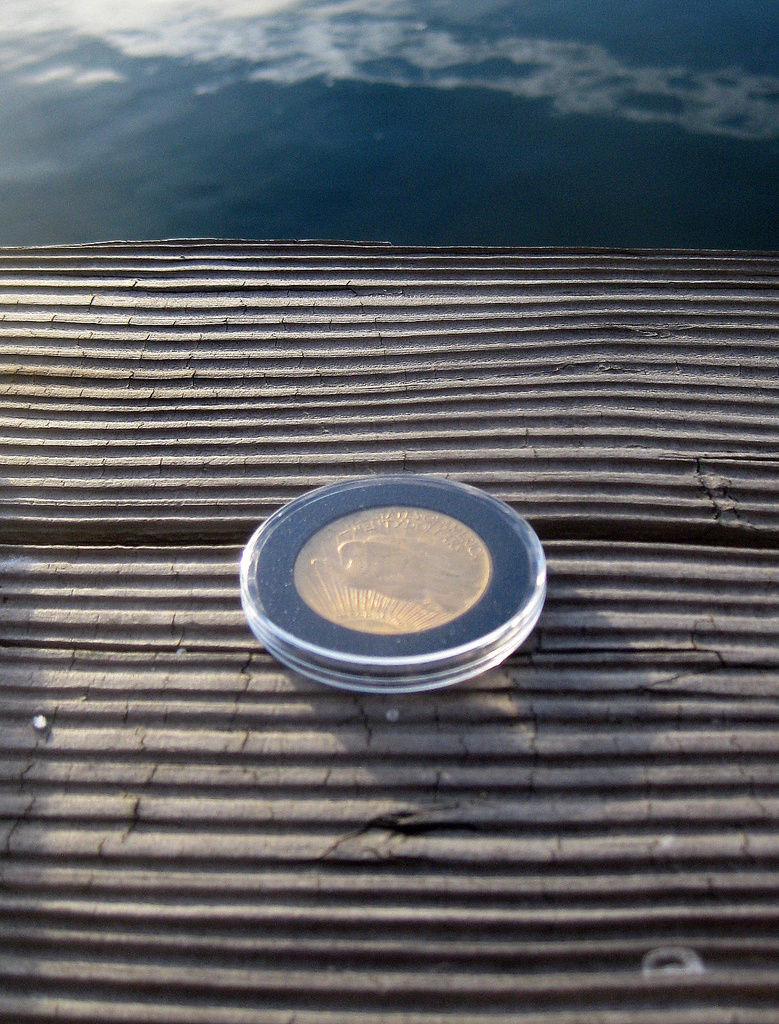plate: (235, 468, 549, 666)
